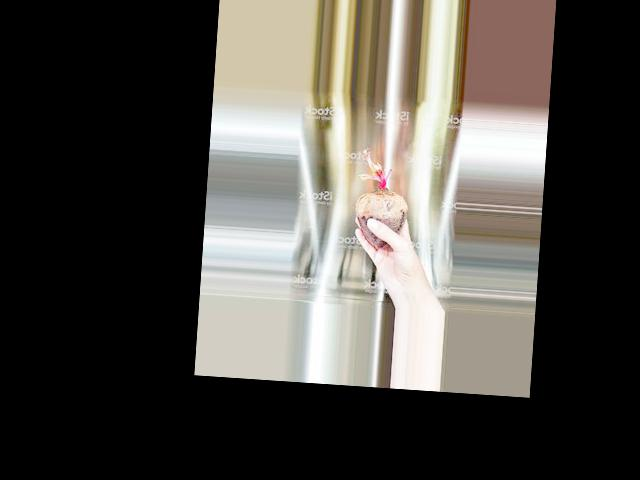beet: (352, 150, 410, 250)
